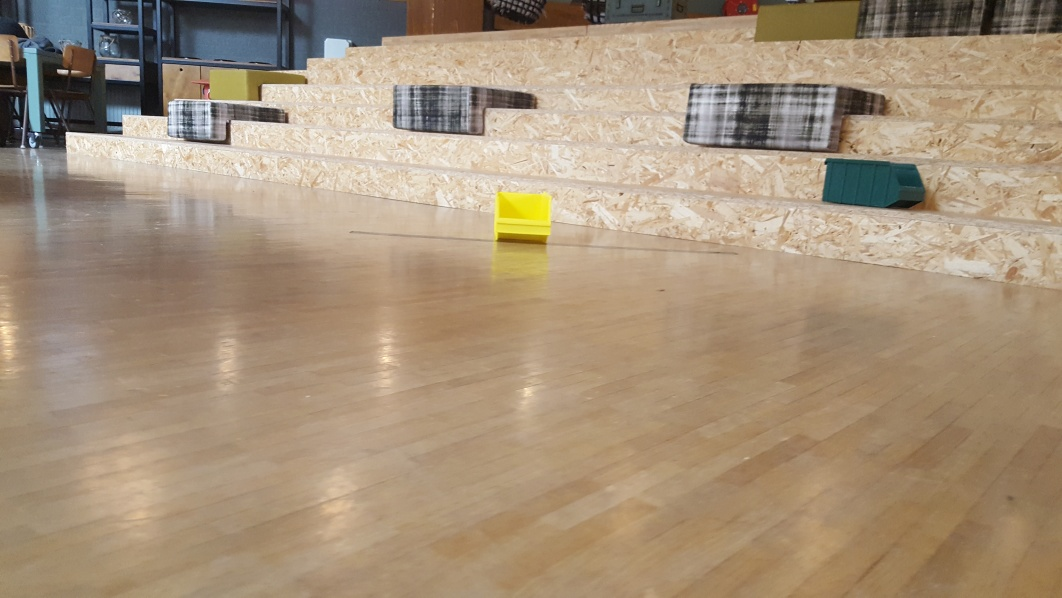tray: (818, 155, 927, 210), (494, 189, 553, 246)
